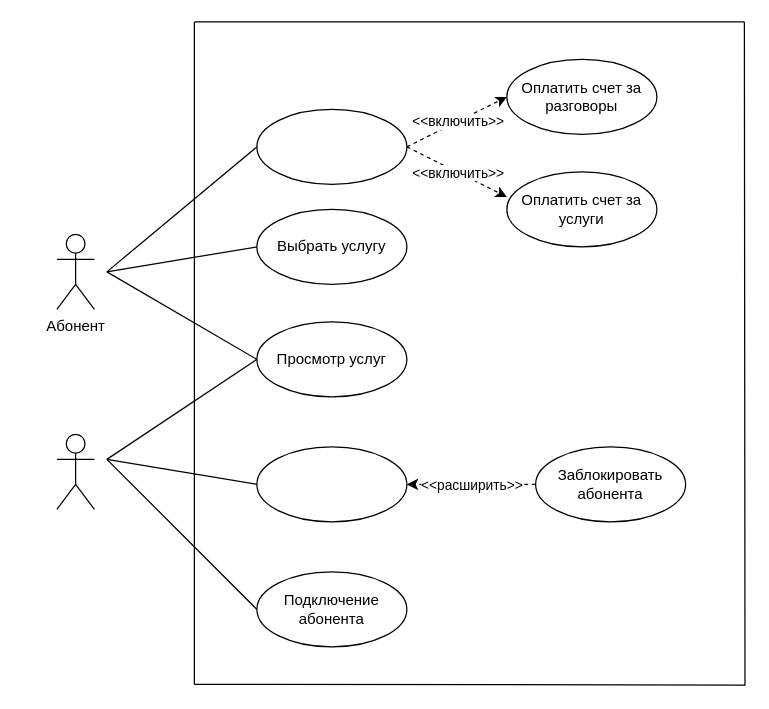
Some shapes in this 769 by 709 pixel diagram are drawn without their labels. The box of each missing label's shape, as (x1, y1, x2, y2) in pixels:
Администратор: (56, 433, 94, 509)
Оплатить счет: (256, 108, 407, 184)
Просмотр неоплаченных счетов: (256, 446, 407, 522)
